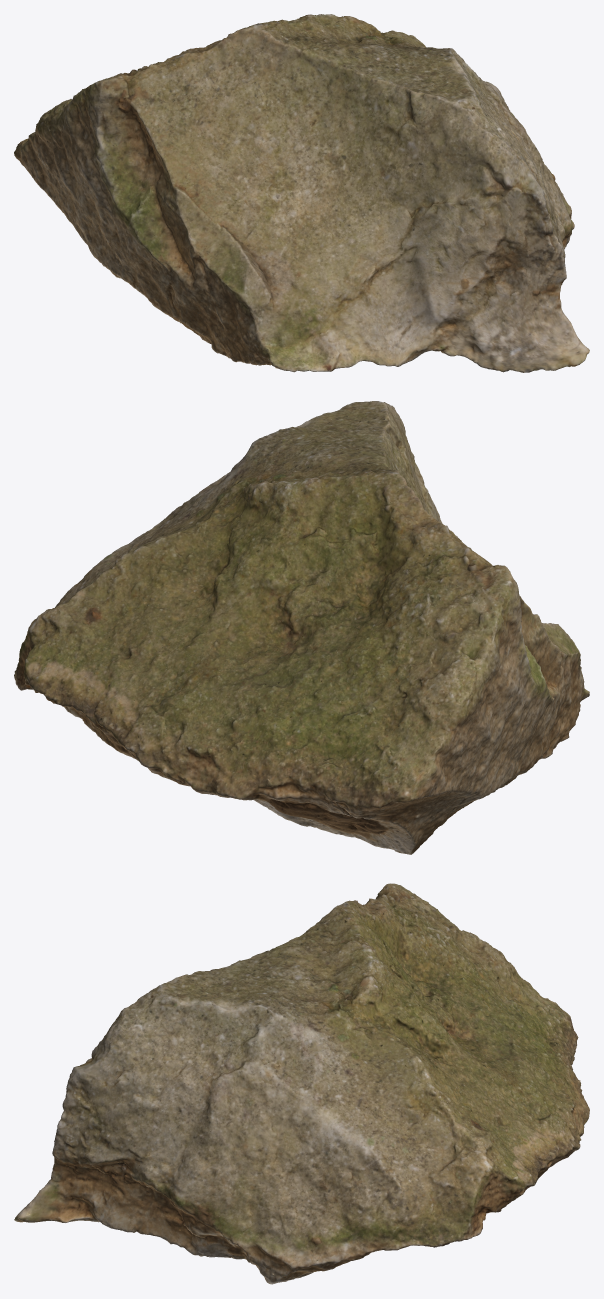
3 renders of one model, top to bottom at view 1: azimuth 30°, elevation 25°; view 2: azimuth 150°, elevation 25°; view 3: azimuth 270°, elevation 25°, orthographic. The views are drawn at different scales.
Visible parts, largest first — view 1: Object_3, Object_2; view 2: Object_2, Object_3; view 3: Object_2, Object_3.
Part boxes in pixels (x1=…): Object_3: x1=14, y1=14, x2=589, y2=372; Object_2: x1=14, y1=14, x2=589, y2=372; Object_2: x1=14, y1=401, x2=584, y2=854; Object_3: x1=14, y1=405, x2=589, y2=854; Object_2: x1=14, y1=900, x2=589, y2=1283; Object_3: x1=18, y1=883, x2=587, y2=1284.
Size of the model in its own units: 5.47 by 3.42 by 6.49.
Materials: 1 (1 with a texture image).
